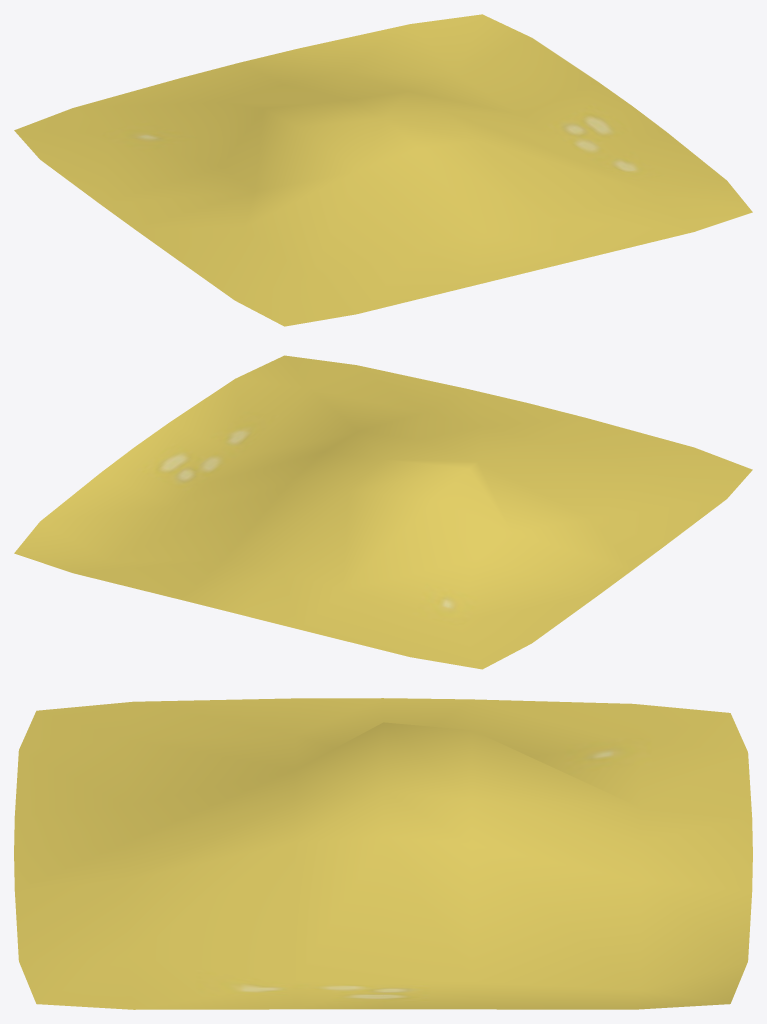
The model's file is Sand_Pile_C.fbx.
The picture shows the model from 3 angles, top to bottom: view 1: azimuth 30°, elevation 25°; view 2: azimuth 150°, elevation 25°; view 3: azimuth 270°, elevation 25°; orthographic projection. The views are drawn at different scales.
Parts seen in each view (by area): view 1: Sand_Pile_C; view 2: Sand_Pile_C; view 3: Sand_Pile_C.
Boxes of the visible parts, box(x1,y1,x2,y2) form: Sand_Pile_C: box(14, 14, 752, 326); Sand_Pile_C: box(14, 355, 752, 669); Sand_Pile_C: box(14, 698, 752, 1009).
Bounding box in the file's own units: 2158 × 2158 × 341.
1 material, 1 textured.
